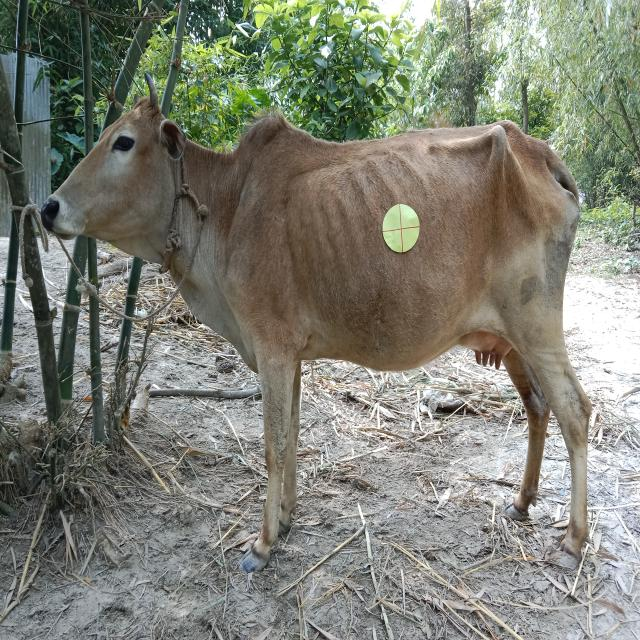badan_sapi: (246, 138, 575, 366)
sapi: (29, 72, 618, 592)
